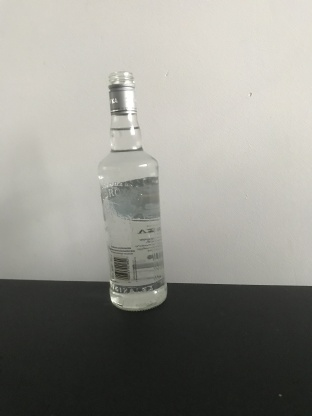nakretka: (106, 68, 138, 116)
